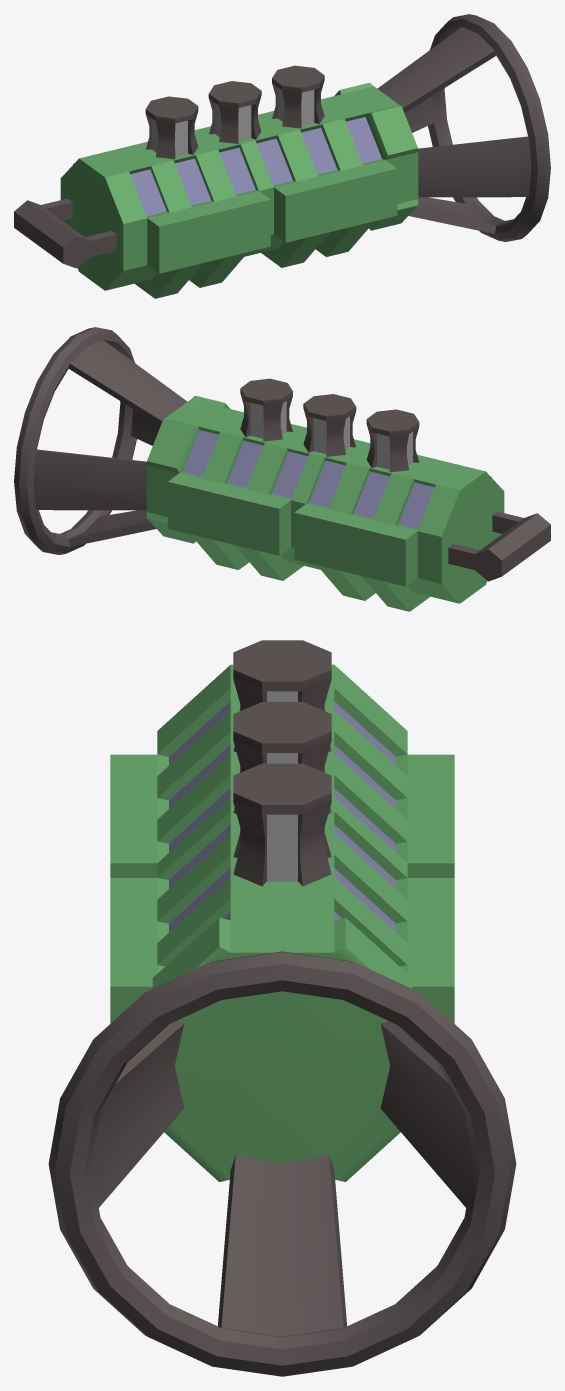
The model's file is AirGun.fbx.
The picture shows the model from 3 angles, top to bottom: view 1: azimuth 30°, elevation 25°; view 2: azimuth 150°, elevation 25°; view 3: azimuth 270°, elevation 25°; orthographic projection. The views are drawn at different scales.
Parts seen in each view (by area): view 1: pCylinder11, pCylinder9, pCylinder1, pCylinder7; view 2: pCylinder11, pCylinder9, pCylinder1, pCylinder7; view 3: pCylinder11, pCylinder9.
Part boxes in pixels (x1,y1,x2,y2): pCylinder11: (14,14,550,298); pCylinder9: (278,88,314,125); pCylinder1: (215,103,251,140); pCylinder7: (152,119,187,156); pCylinder11: (14,327,550,611); pCylinder9: (250,401,286,438); pCylinder1: (313,416,349,453); pCylinder7: (377,432,412,469); pCylinder11: (48,640,516,1376); pCylinder9: (267,814,297,881).
Size of the model in its own units: 4.98 by 2.2 by 2.2.
